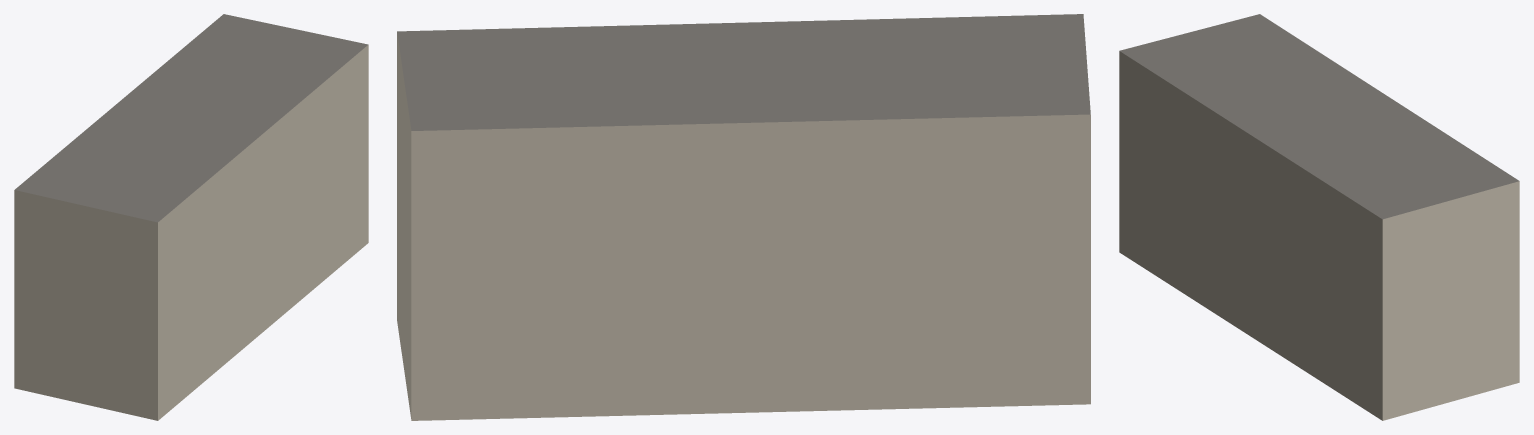
3 views of the same model, side by side, from view 1: azimuth 30°, elevation 25°; view 2: azimuth 150°, elevation 25°; view 3: azimuth 270°, elevation 25° (orthographic). The views are drawn at different scales.
Visible parts, largest first — view 1: HP-w505633372; view 2: HP-w505633372; view 3: HP-w505633372.
Boxes of the visible parts, x1,y1,x2,y2 form: HP-w505633372: (14,14,368,420); HP-w505633372: (397,14,1090,420); HP-w505633372: (1119,14,1519,420).
Bounding box in the file's own units: 39.34 × 18 × 32.42.
